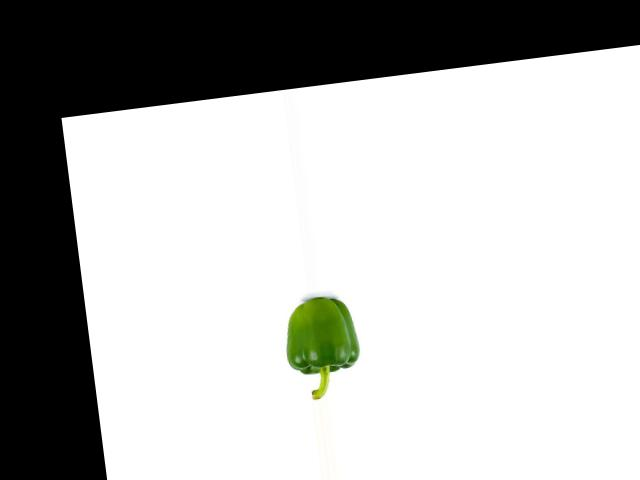bell_pepper: (279, 291, 376, 400)
